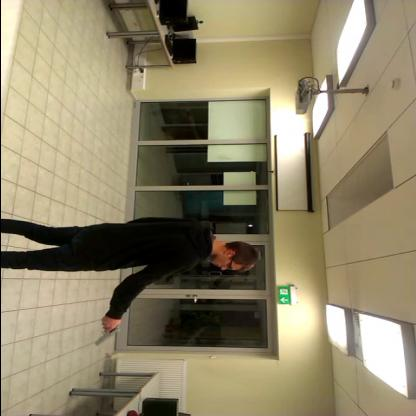Pistol: (83, 314, 127, 351)
